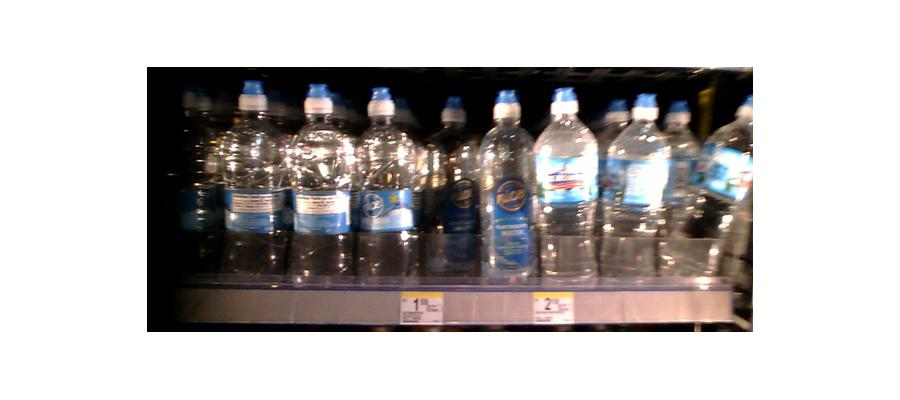bottle: (217, 78, 287, 285), (285, 91, 354, 280), (536, 88, 601, 287), (602, 96, 671, 282), (355, 87, 421, 281), (482, 94, 536, 286), (432, 98, 481, 280)
